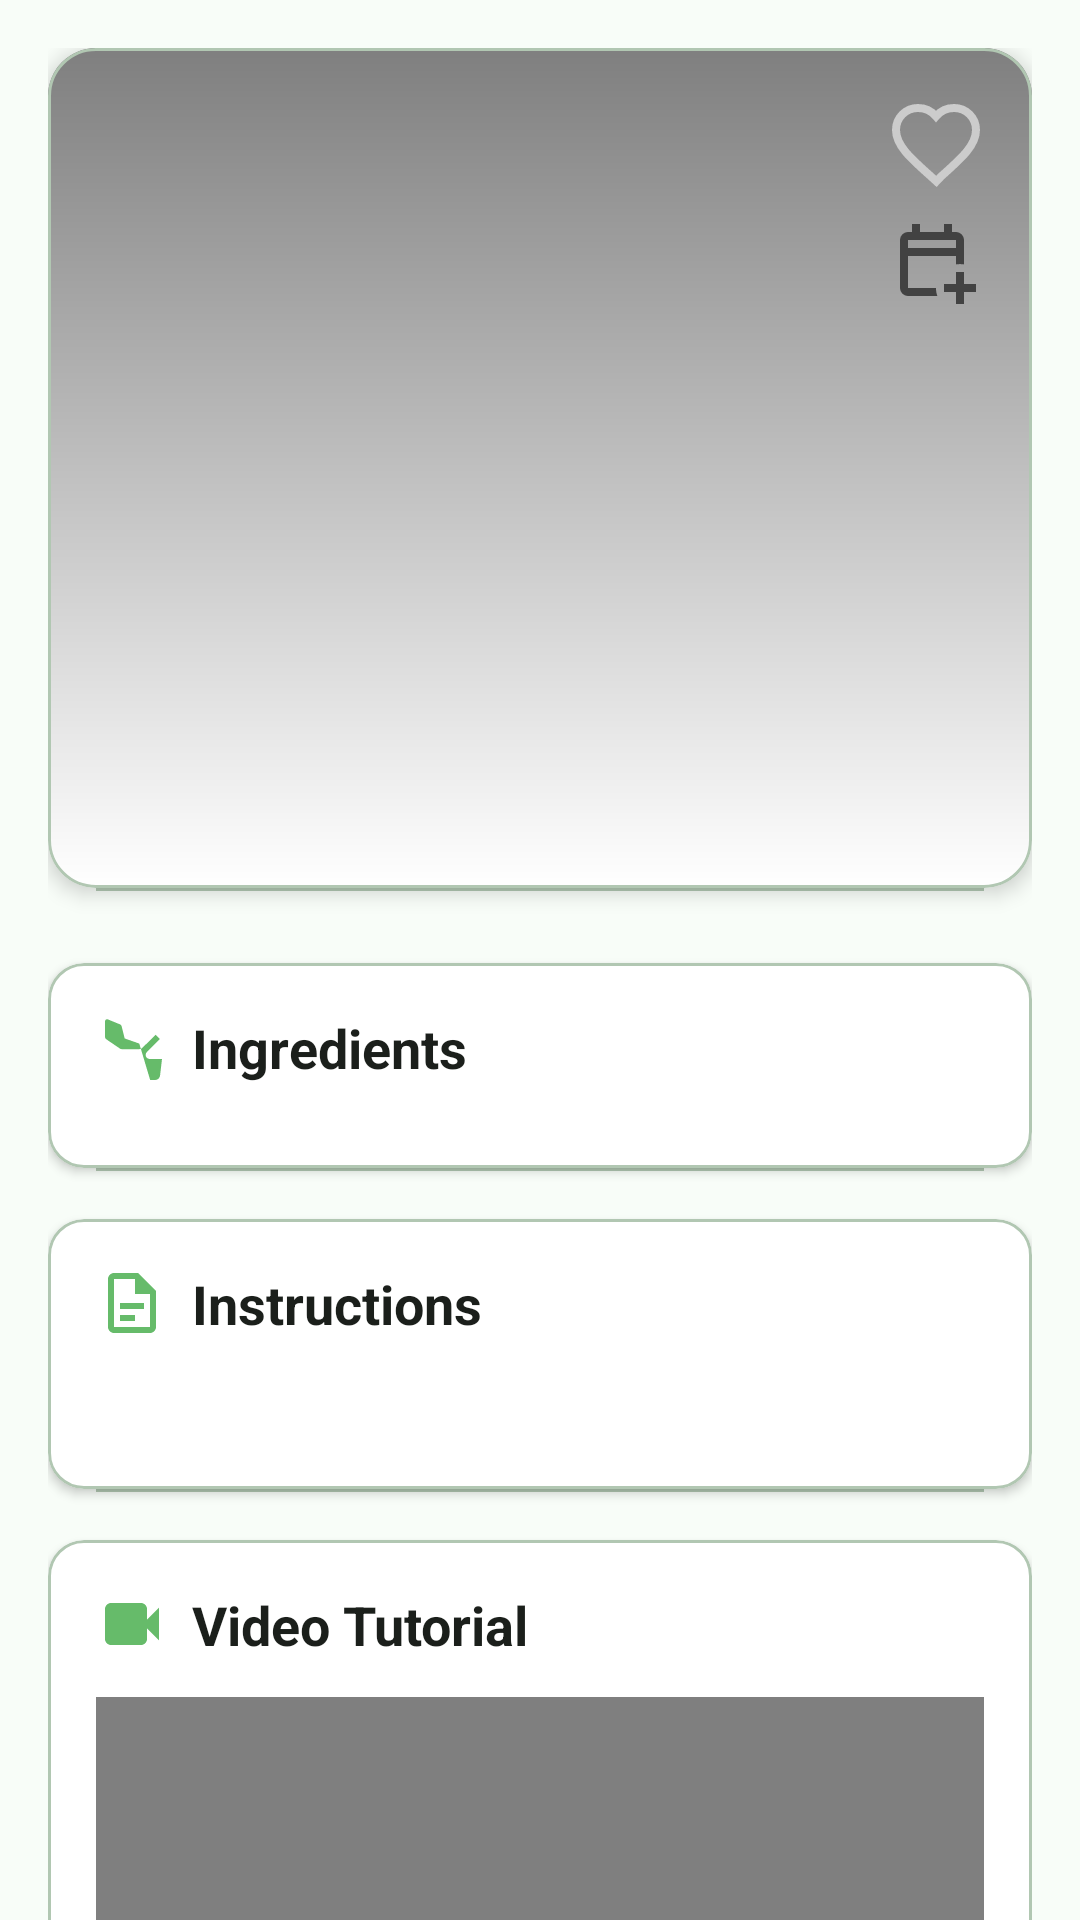

Named icons in this screenshot (1080×1920) and their centers, [x,y]:
calendar add on: [938,264]
heart: [936,145]
